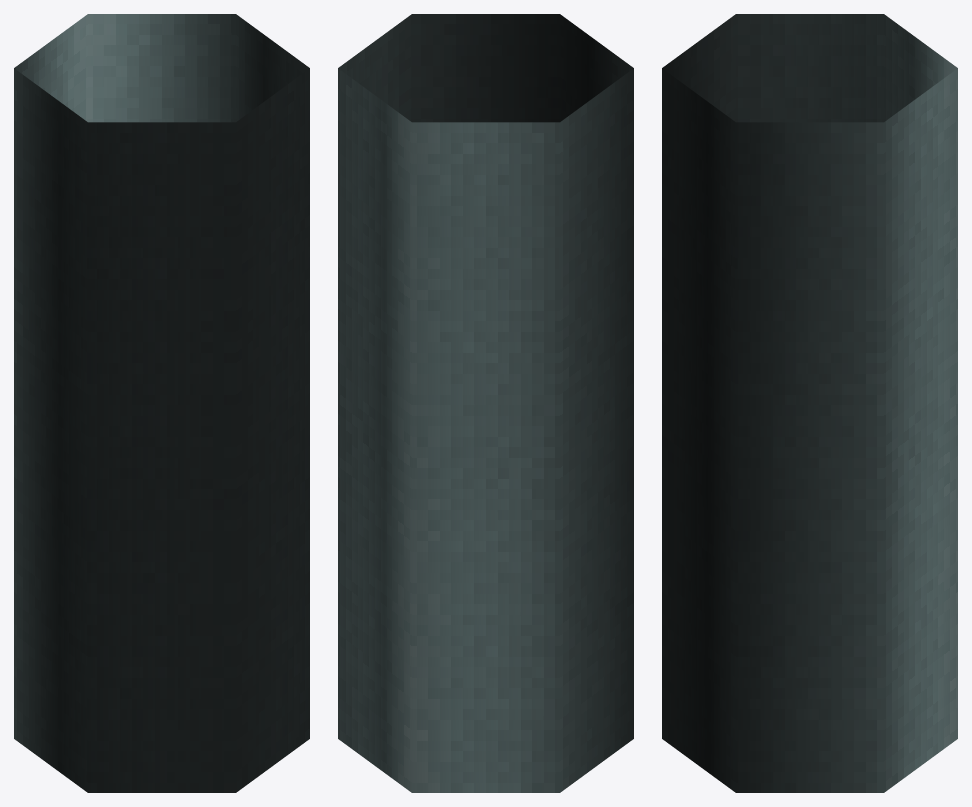
Rendered from roof_pipe_mid_1.glb.
3 views of the same model, side by side, from view 1: azimuth 30°, elevation 25°; view 2: azimuth 150°, elevation 25°; view 3: azimuth 270°, elevation 25° (orthographic).
Parts seen in each view (by area): view 1: roof_pipe_mid_1; view 2: roof_pipe_mid_1; view 3: roof_pipe_mid_1.
Boxes of the visible parts, x1,y1,x2,y2 form: roof_pipe_mid_1: [14, 14, 309, 792]; roof_pipe_mid_1: [338, 14, 633, 792]; roof_pipe_mid_1: [662, 14, 957, 792].
Bounding box in the file's own units: 0.3464 × 1 × 0.4.
Materials: 1 (1 with a texture image).
